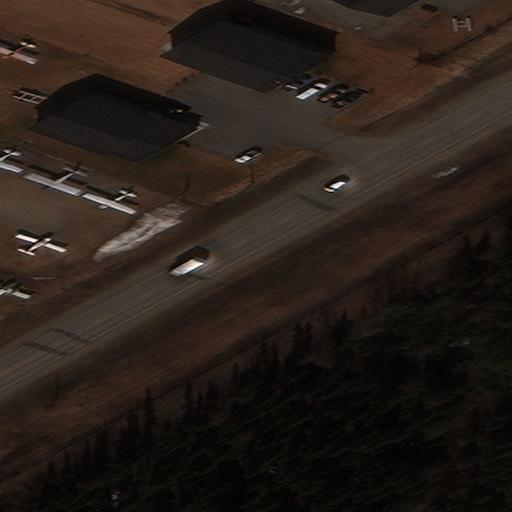Small Civil Transport: (21, 168, 77, 196), (81, 190, 132, 215), (18, 233, 66, 254), (0, 43, 32, 64), (0, 281, 31, 300), (0, 150, 19, 173)
